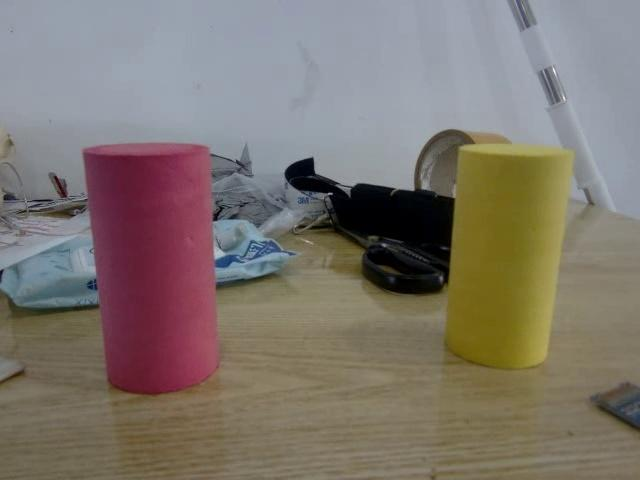red_cylinder: (82, 137, 232, 395)
yellow_cylinder: (443, 141, 575, 371)
